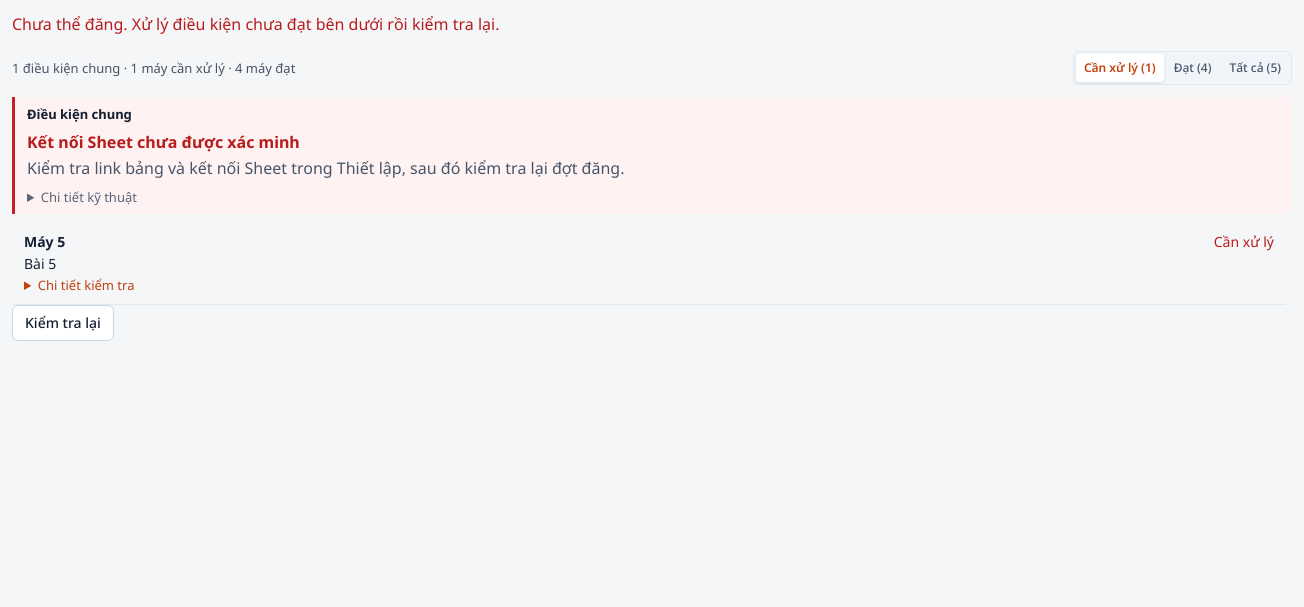
Test case: publish preflight result › opens on blocked machines, keeps global blockers visible, and lets the operator inspect passed machines
Expected: the text "Kết nối Sheet chưa được xác minh" is shown, [27,131,300,153]
Expected: the text "1 điều kiện chung · 1 máy cần xử lý · 4 máy đạt" is shown, [12,59,295,77]
Click the button "Đạt (4)".
click(1193, 68)  # box [1166,54,1219,82]
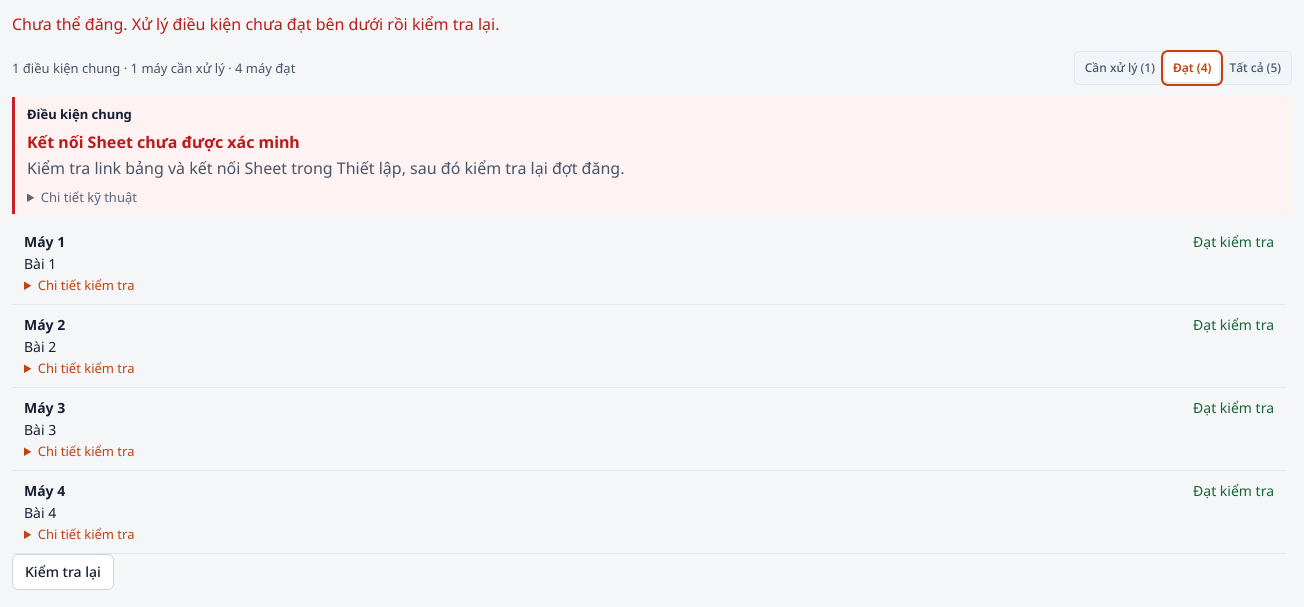
Expected: the element "Máy 1" is shown, [12,222,1286,305]
Expected: the text "Máy 5" is gone
